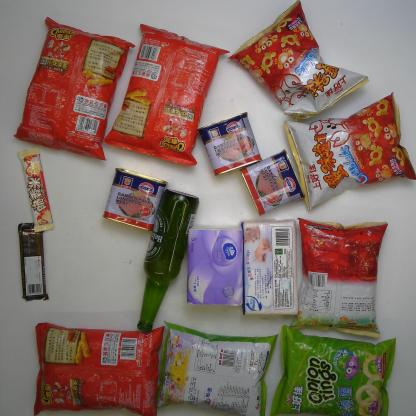Alcohol: (136, 188, 200, 334)
Canned Food: (239, 148, 305, 218), (197, 111, 263, 177), (102, 168, 169, 232)
Chocolate: (18, 146, 54, 233), (18, 221, 50, 302)
Puffed Food: (101, 23, 231, 167), (11, 15, 136, 161), (227, 0, 371, 123), (282, 90, 416, 212), (32, 321, 166, 416), (289, 216, 390, 340), (269, 323, 397, 416), (155, 321, 280, 416)
Tissue: (240, 218, 299, 316), (185, 223, 244, 307)
